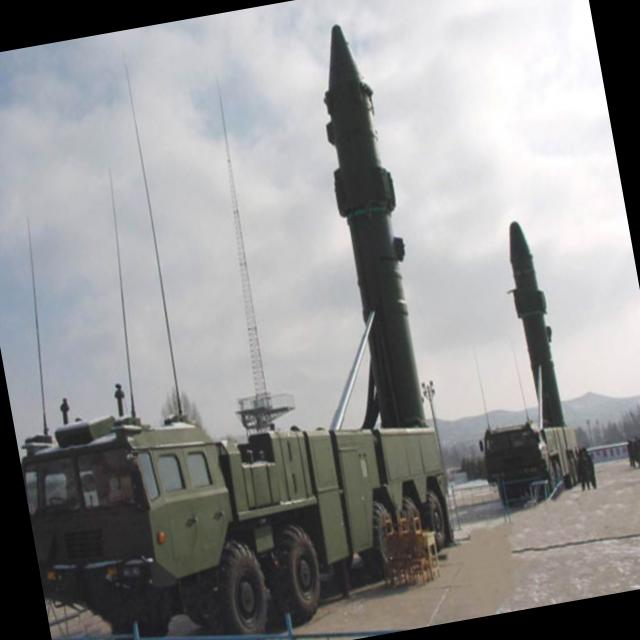rocket: (311, 25, 440, 433), (501, 208, 570, 429)
